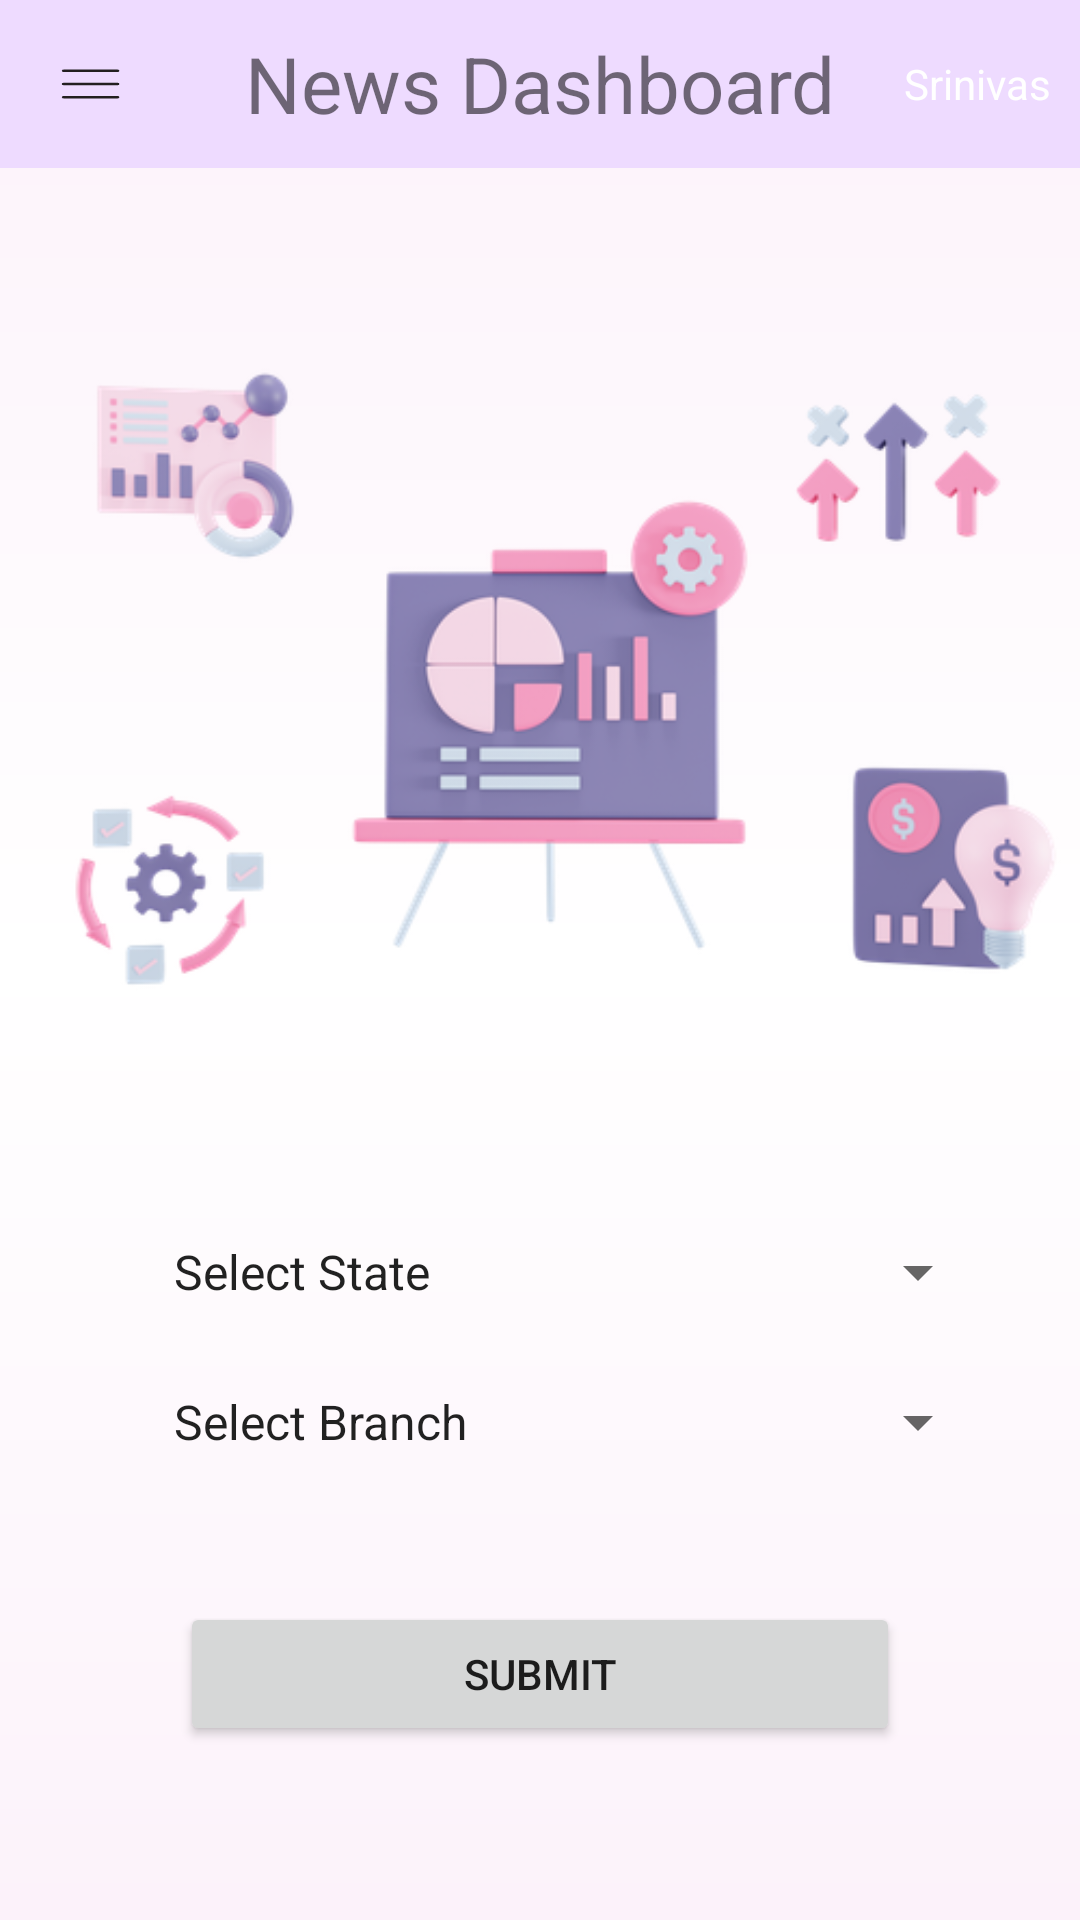

Where icons sit on this 1080w x 1920h app screen, as (x1, y1, x2, y2):
custom menu: (62, 69, 120, 99)
